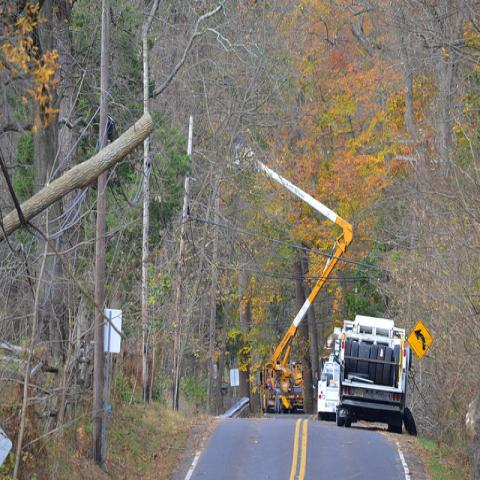truck: (336, 315, 412, 433), (317, 362, 339, 422)
